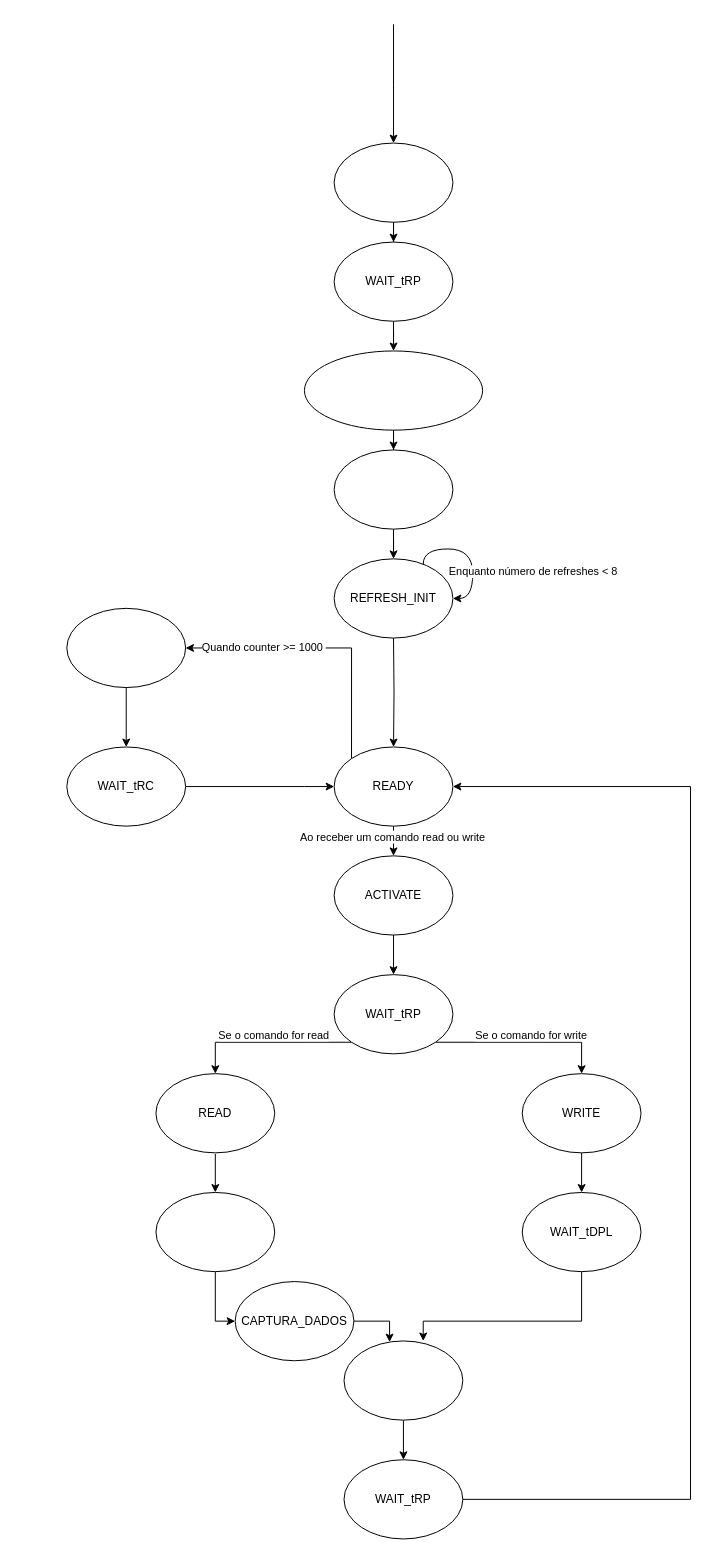
The diagram is 716 pixels wide and 1556 high, and some of its shapes have lost their labels. Each missing label, with the box of its shape:
LOAD_MODE_REGISTER: (303, 350, 483, 430)
PRECHARGE: (343, 1340, 463, 1420)
PRECHARGE_INIT: (333, 142, 453, 222)
REFRESH: (66, 607, 186, 688)
WAIT_CL: (155, 1191, 275, 1272)
WAIT_tMRD: (333, 449, 453, 529)
